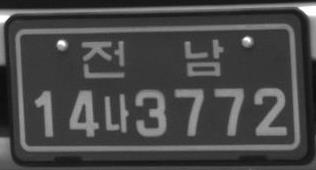1: (31, 89, 59, 138)
2: (253, 86, 289, 137)
3: (133, 87, 168, 138)
4: (67, 88, 99, 137)
7: (212, 86, 246, 138), (173, 86, 205, 137)
나: (103, 92, 129, 134)
전남_D: (80, 37, 224, 78)
